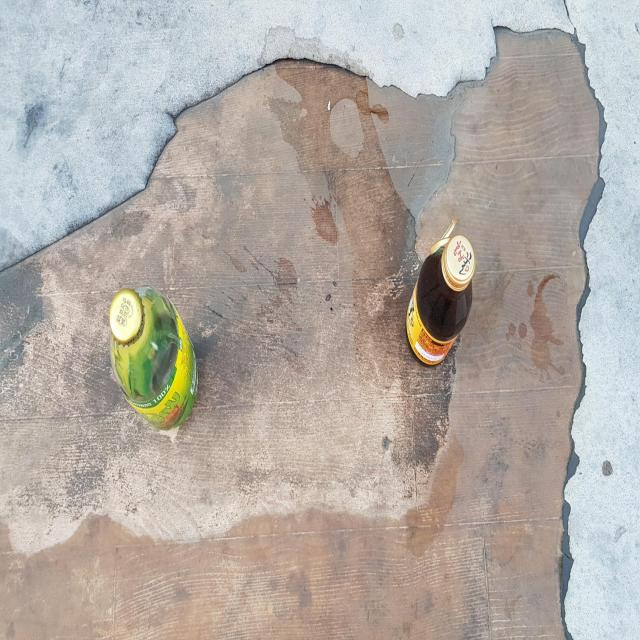glass: (109, 286, 198, 433), (407, 233, 476, 365)
